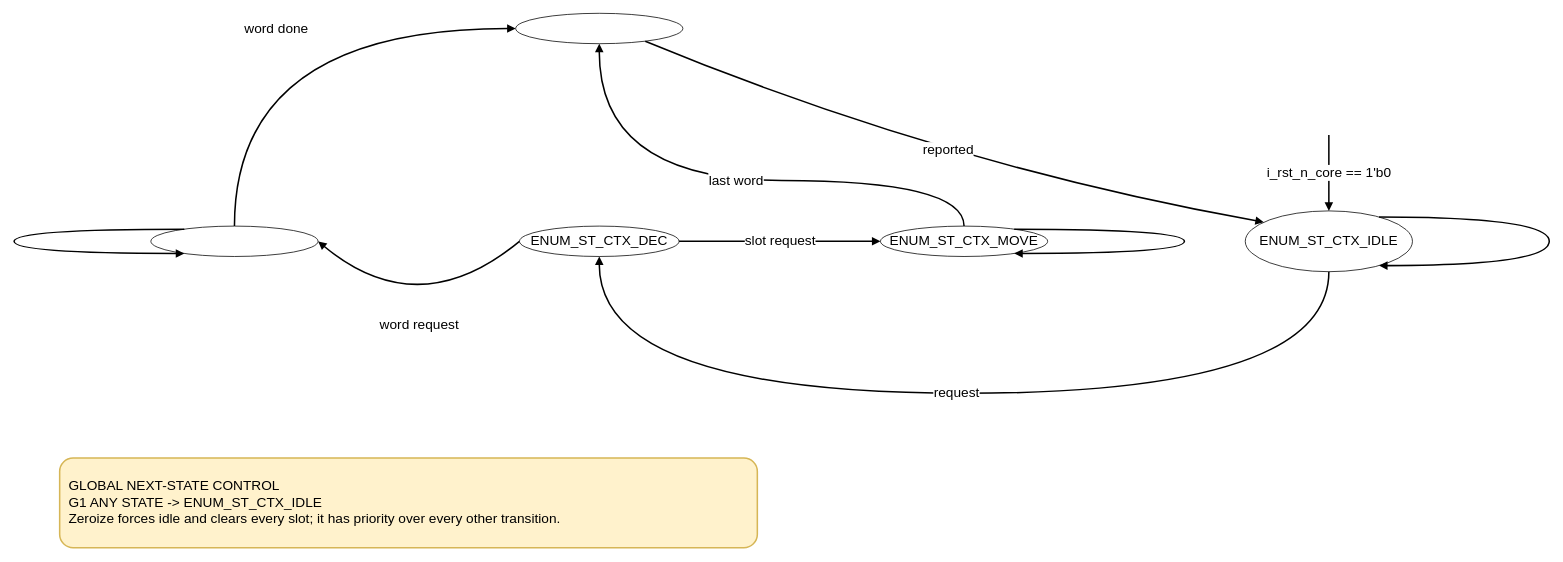
Image size: 1563x562. Some labels were removed from this diagram. The centre of each missing label's shape, as x and y in pixels:
ENUM_ST_CTX_DONE: the point at 599,28
ENUM_ST_CTX_XFER: the point at 234,240
